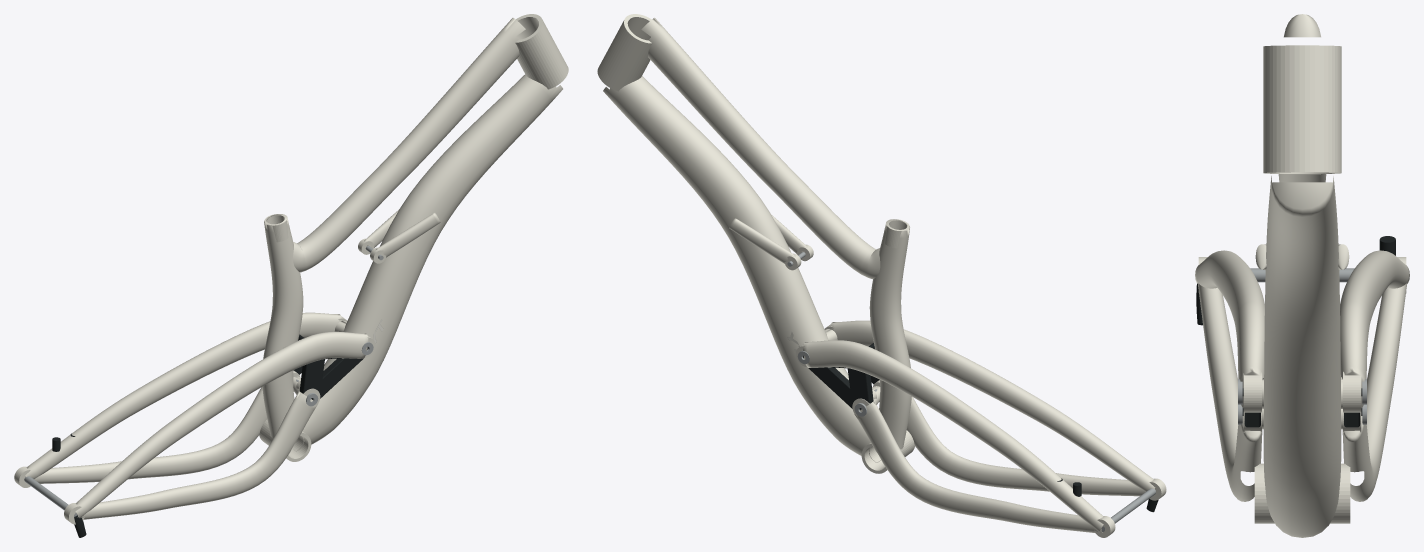
Rendered from yt-tues-mk4-carbon--m.glb.
3 views of the same model, side by side, from view 1: azimuth 30°, elevation 25°; view 2: azimuth 150°, elevation 25°; view 3: azimuth 270°, elevation 25° (orthographic). The views are drawn at different scales.
Visible parts, largest first — view 1: yt-tues-mk4-carbon__paint_0, yt-tues-mk4-carbon__detail_1, yt-tues-mk4-carbon__detail_2; view 2: yt-tues-mk4-carbon__paint_0, yt-tues-mk4-carbon__detail_1, yt-tues-mk4-carbon__detail_2; view 3: yt-tues-mk4-carbon__paint_0, yt-tues-mk4-carbon__detail_1, yt-tues-mk4-carbon__detail_2.
Part boxes in pixels (box(x1,y1,x2,y2)): yt-tues-mk4-carbon__paint_0: box(14, 14, 568, 524); yt-tues-mk4-carbon__detail_1: box(52, 334, 368, 537); yt-tues-mk4-carbon__detail_2: box(24, 246, 383, 516); yt-tues-mk4-carbon__paint_0: box(597, 14, 1166, 537); yt-tues-mk4-carbon__detail_1: box(803, 343, 1158, 512); yt-tues-mk4-carbon__detail_2: box(787, 252, 1155, 531); yt-tues-mk4-carbon__paint_0: box(1195, 14, 1409, 537); yt-tues-mk4-carbon__detail_1: box(1196, 236, 1395, 427); yt-tues-mk4-carbon__detail_2: box(1238, 268, 1366, 424).
Size of the model in its own units: 0.9985 by 0.7142 by 0.1863.
Materials: 5 (2 with a texture image).
